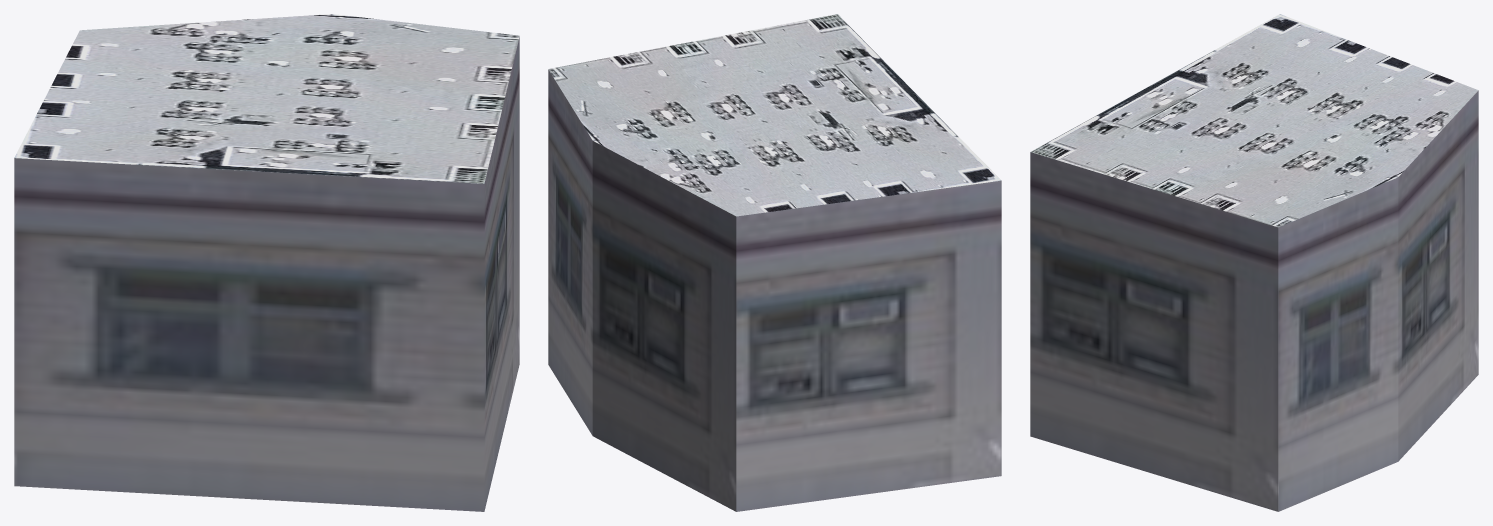
Rendered from ResTex__5274.fbx.
3 views of the same model, side by side, from view 1: azimuth 30°, elevation 25°; view 2: azimuth 150°, elevation 25°; view 3: azimuth 270°, elevation 25° (orthographic). The views are drawn at different scales.
Parts seen in each view (by area): view 1: CityEngineMaterial_1_m, CityEngineMaterial_4_m; view 2: CityEngineMaterial_1_m, CityEngineMaterial_4_m; view 3: CityEngineMaterial_1_m, CityEngineMaterial_4_m.
Boxes of the visible parts, <box> form: CityEngineMaterial_1_m: <box>14,37,519,511</box>; CityEngineMaterial_4_m: <box>14,14,519,183</box>; CityEngineMaterial_1_m: <box>548,70,1001,511</box>; CityEngineMaterial_4_m: <box>548,14,1001,216</box>; CityEngineMaterial_1_m: <box>1030,90,1478,511</box>; CityEngineMaterial_4_m: <box>1031,14,1478,227</box>.
Size of the model in its own units: 4.83 by 3 by 4.29.
2 materials, 2 textured.
